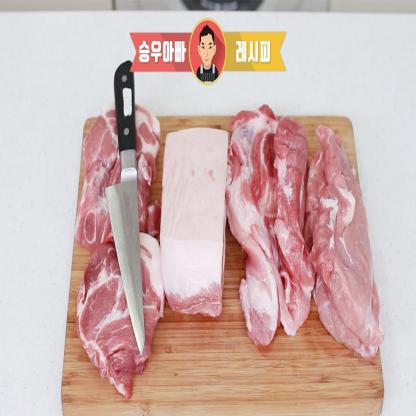pork: (317, 104, 384, 366), (229, 104, 280, 346), (161, 131, 225, 317), (280, 107, 316, 358), (76, 252, 133, 396), (74, 116, 106, 248)
